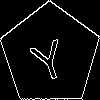Y: (25, 30, 70, 84)
